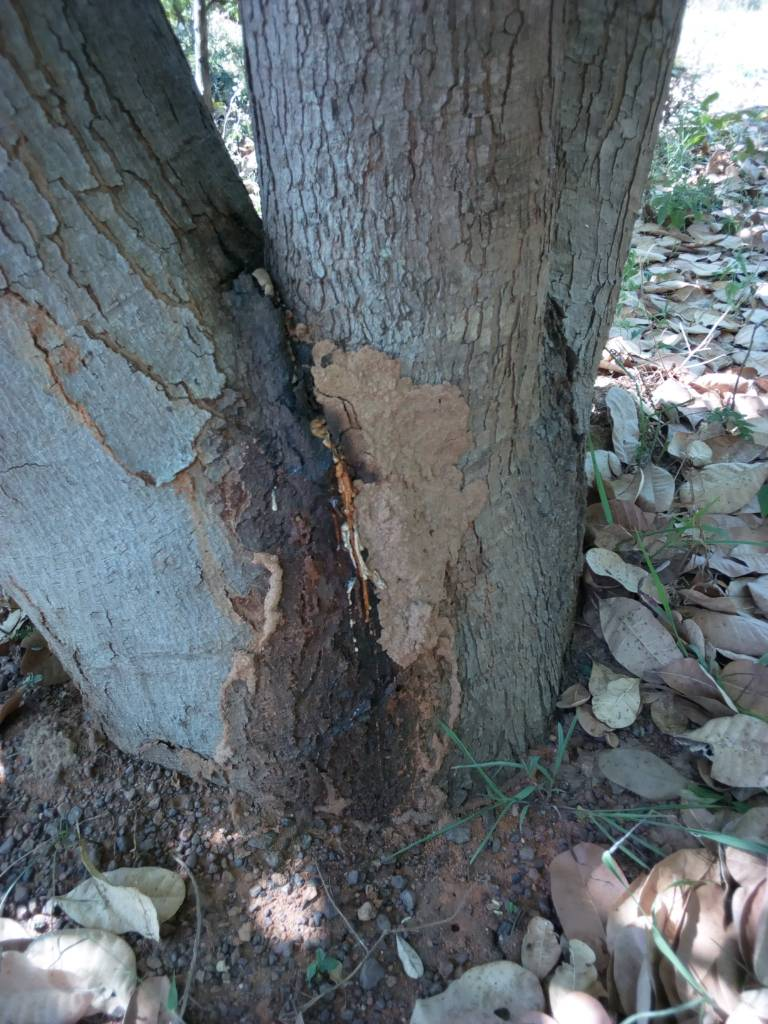Gommose: (235, 430, 446, 836), (218, 230, 346, 416)
